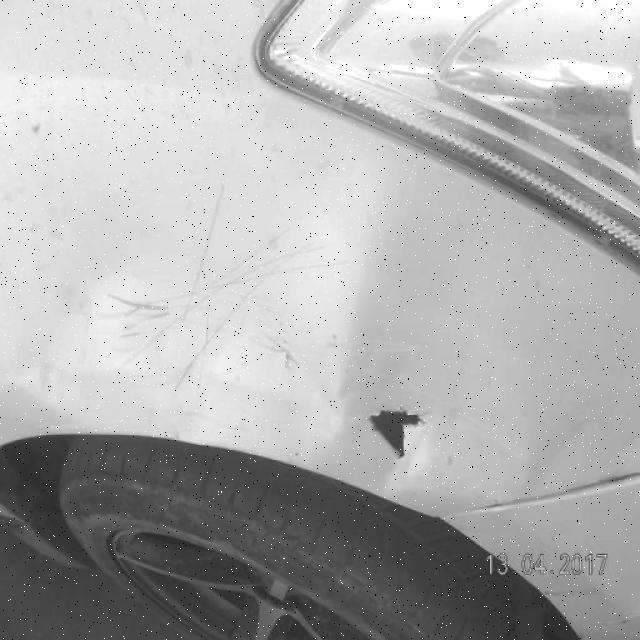car damage: (367, 399, 433, 469)
